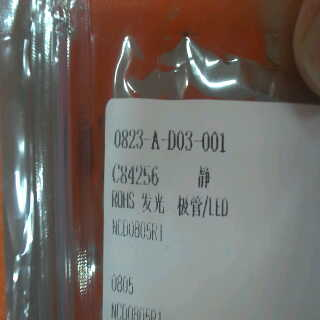LED: (133, 191, 238, 219)
